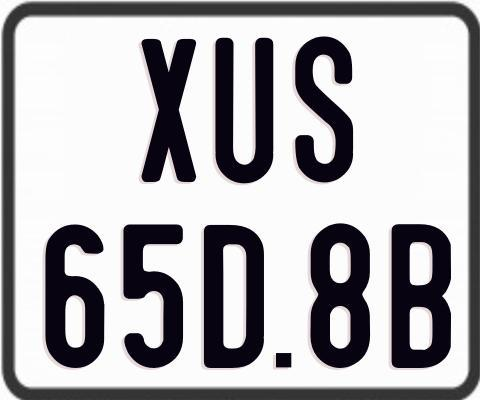5: (120, 221, 183, 367)
6: (42, 223, 106, 366)
8: (309, 221, 372, 367)
B: (389, 222, 450, 366)
D: (204, 222, 269, 370)
S: (293, 36, 354, 185)
U: (213, 37, 273, 186)
X: (140, 38, 201, 185)
